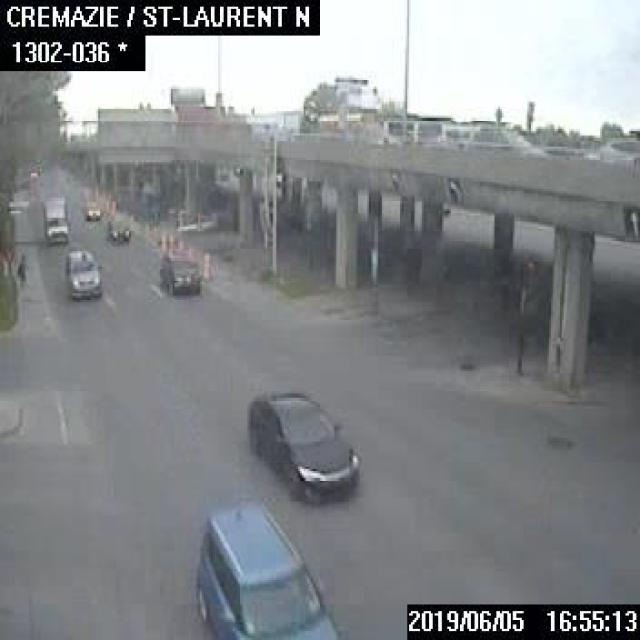construction: (201, 250, 210, 278)
pedestrian: (15, 252, 28, 286)
vehicle: (193, 496, 340, 638), (244, 389, 360, 502), (464, 119, 542, 157), (66, 245, 102, 300), (156, 250, 198, 293), (40, 194, 69, 243), (580, 134, 638, 156), (348, 120, 400, 141), (109, 212, 129, 244), (80, 198, 101, 218)
